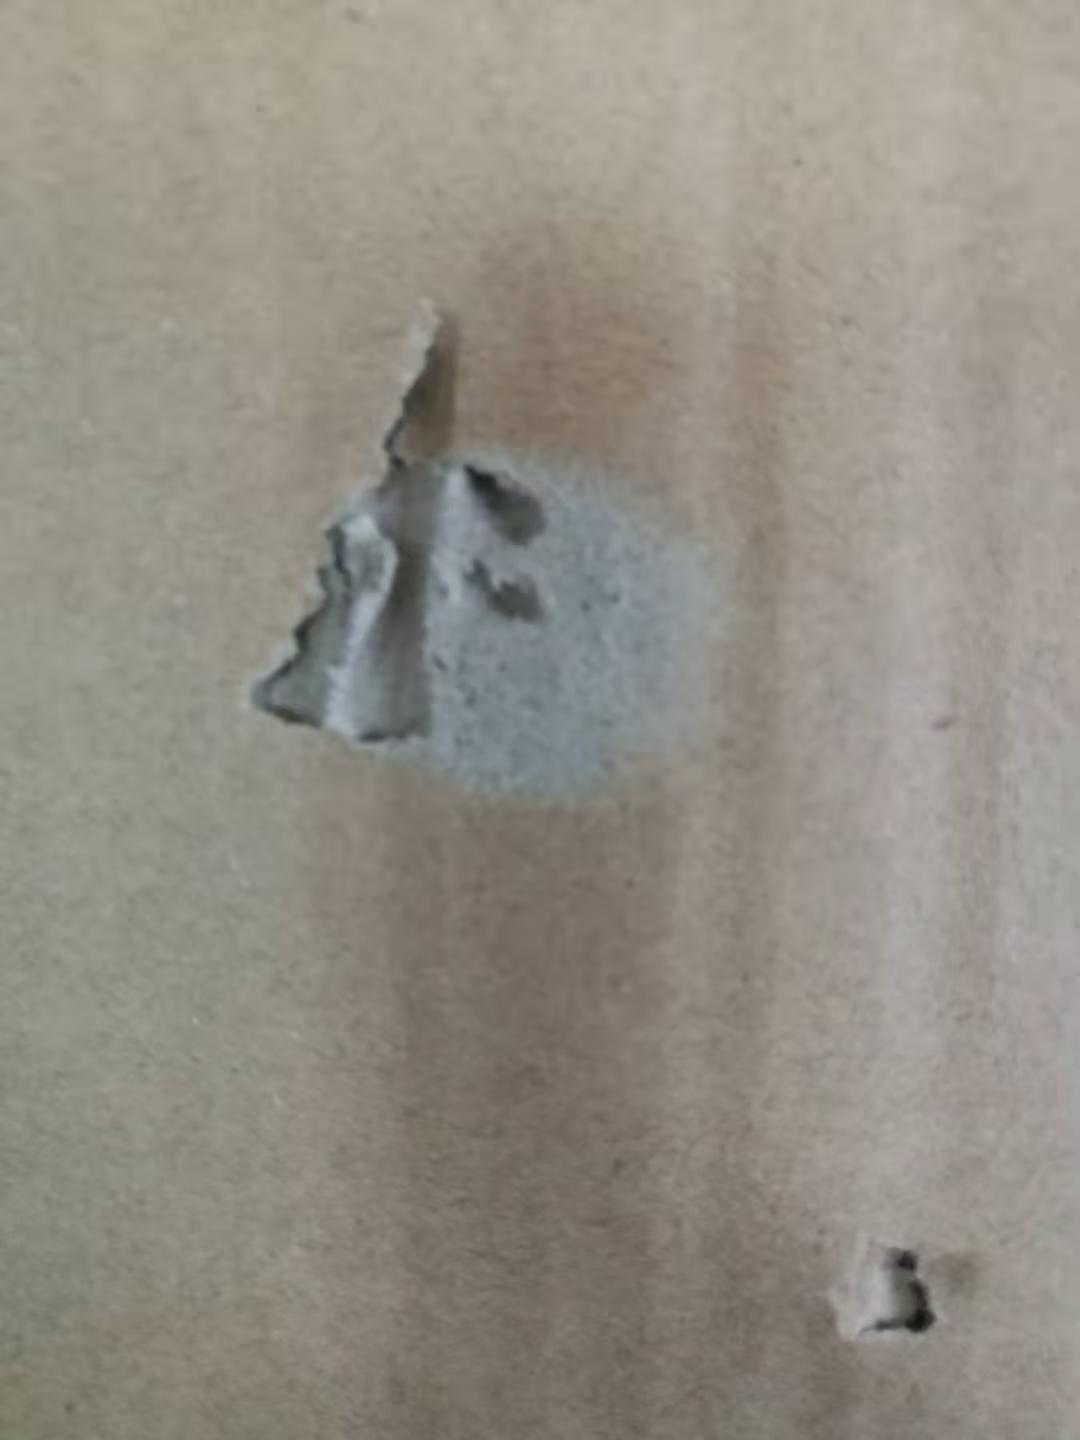defect: (216, 278, 799, 856), (788, 1198, 1019, 1373)
